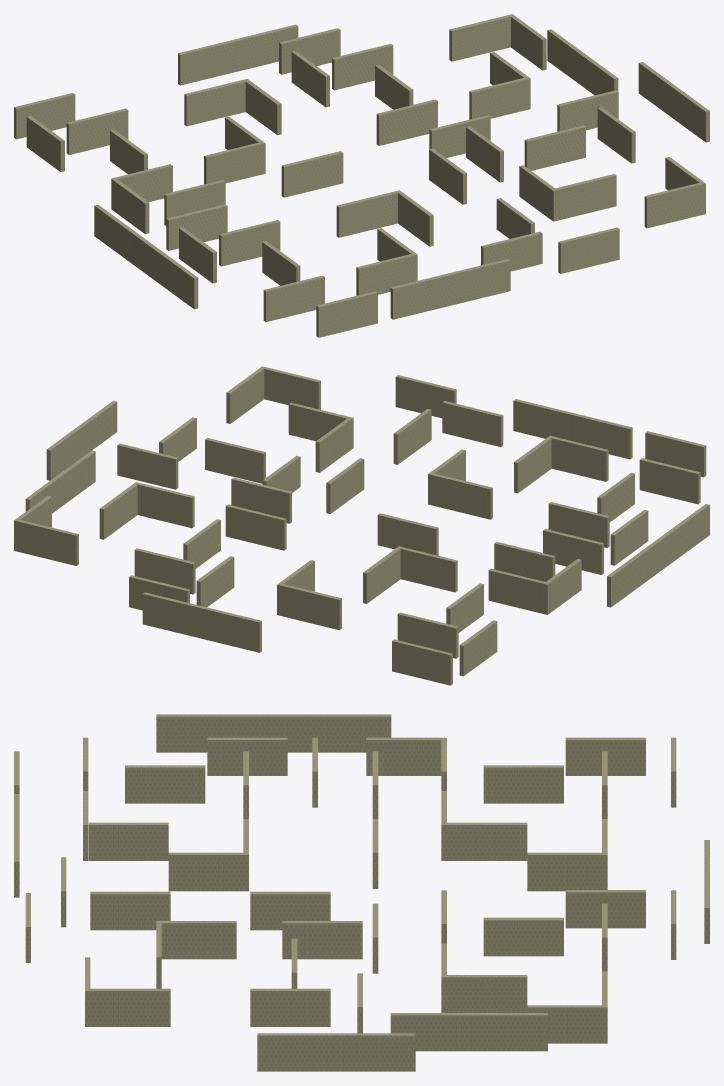
The model's file is walls.glb.
The picture shows the model from 3 angles, top to bottom: view 1: azimuth 30°, elevation 25°; view 2: azimuth 150°, elevation 25°; view 3: azimuth 270°, elevation 25°; orthographic projection. The views are drawn at different scales.
Visible parts, largest first — view 1: walls; view 2: walls; view 3: walls.
Boxes of the visible parts, x1,y1,x2,y2 form: walls: (14,14,709,337); walls: (14,366,709,685); walls: (14,714,709,1071).
Bounding box in the file's own units: 172 × 9.01 × 158.
Materials: 1 (1 with a texture image).
